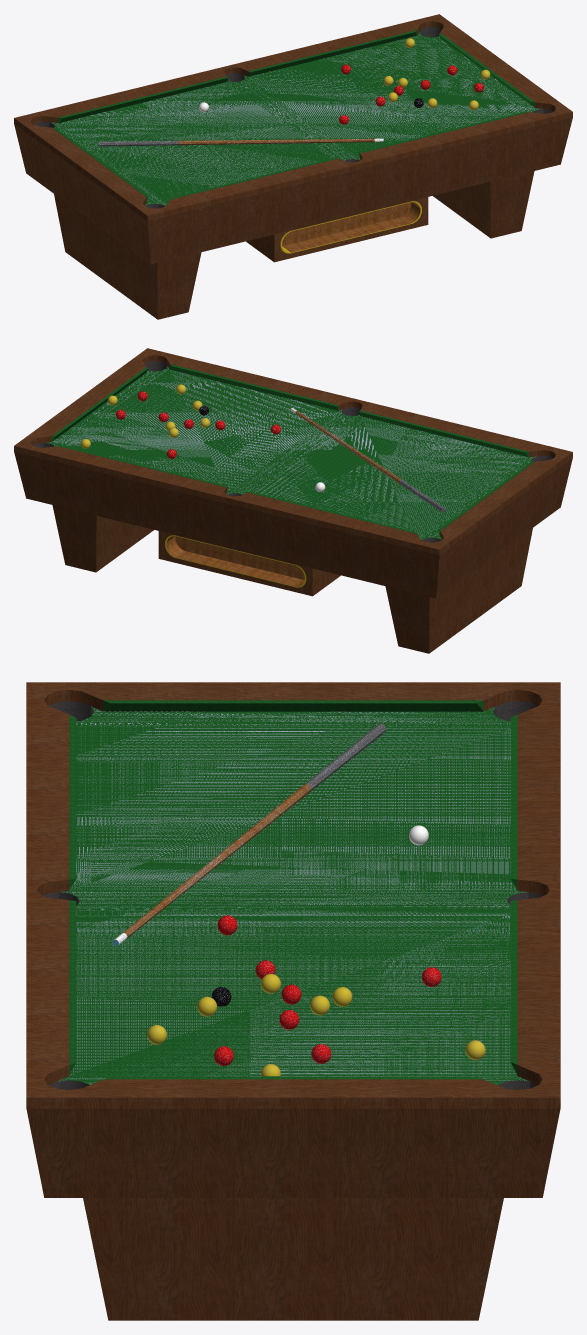
3 views of the same model, one above another, from view 1: azimuth 30°, elevation 25°; view 2: azimuth 150°, elevation 25°; view 3: azimuth 270°, elevation 25° (orthographic). The views are drawn at different scales.
Parts seen in each view (by area): view 1: SketchUp, group_3 (×4), group_0, group_1 (×5), group_6, group_4 (×2), group_5; view 2: SketchUp, group_3 (×4), group_0, group_1 (×5), group_6, group_4, group_5; view 3: SketchUp, group_3 (×2), group_0, group_1 (×6), group_4 (×2).
Part boxes in pixels (<box>): SketchUp: <box>50,32,542,205</box>; group_3 (×4): <box>14,117,572,319</box>; group_0: <box>14,14,572,221</box>; group_1 (×5): <box>58,30,535,199</box>; group_6: <box>282,202,420,252</box>; group_4 (×2): <box>99,138,374,146</box>; group_5: <box>280,201,421,253</box>; SketchUp: <box>44,366,536,539</box>; group_3 (×4): <box>14,451,572,653</box>; group_0: <box>14,348,572,555</box>; group_1 (×5): <box>51,364,528,533</box>; group_6: <box>166,536,304,586</box>; group_4: <box>295,411,401,483</box>; group_5: <box>165,535,306,587</box>; SketchUp: <box>57,706,529,1084</box>; group_3 (×2): <box>26,1108,560,1320</box>; group_0: <box>26,682,560,1108</box>; group_1 (×6): <box>69,700,517,1079</box>; group_4 (×2): <box>123,723,386,938</box>.
Size of the model in its own units: 109 by 59.06 by 31.73.
15 materials, 7 textured.
